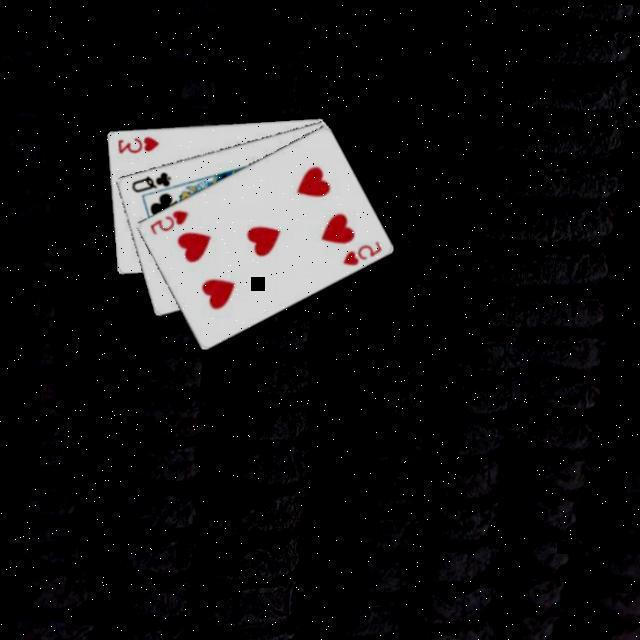3H: (113, 135, 161, 158)
5H: (144, 208, 190, 240), (336, 239, 382, 270)
QC: (126, 170, 172, 197)
